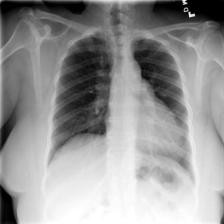normal: (43, 29, 202, 195)
